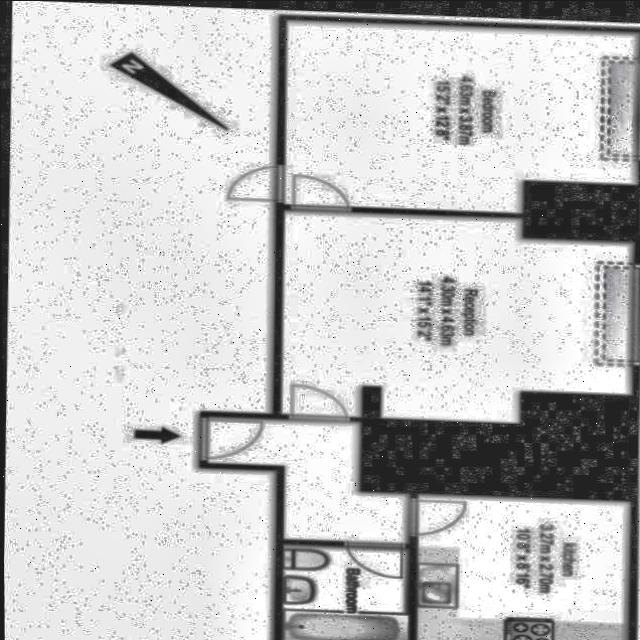room: (276, 208, 635, 421), (278, 17, 639, 212), (415, 489, 630, 640), (203, 414, 413, 540), (282, 541, 409, 640)
